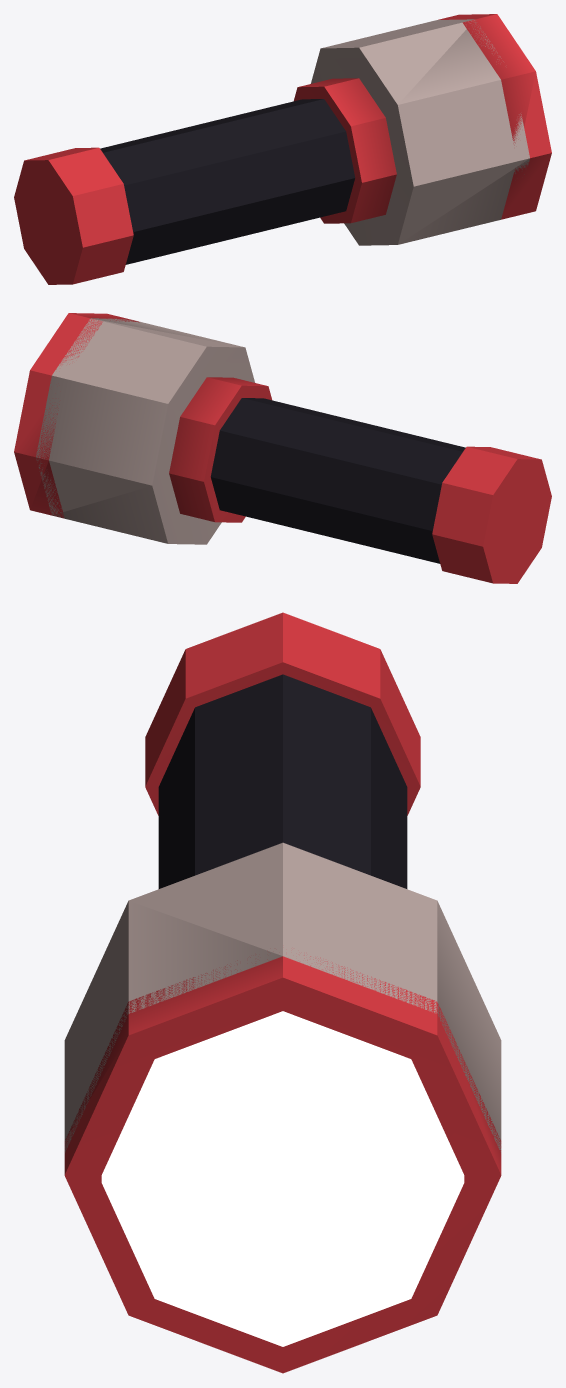
File: util.flashlight.lod2.glb
3 renders of one model, top to bottom at view 1: azimuth 30°, elevation 25°; view 2: azimuth 150°, elevation 25°; view 3: azimuth 270°, elevation 25°, orthographic. The views are drawn at different scales.
Visible parts, largest first — view 1: body; view 2: body; view 3: body.
Part boxes in pixels (x1=…): body: x1=14, y1=14, x2=551, y2=284; body: x1=14, y1=313, x2=551, y2=583; body: x1=64, y1=612, x2=501, y2=1373.
Size of the model in its own units: 0.3135 by 0.13 by 0.13.
